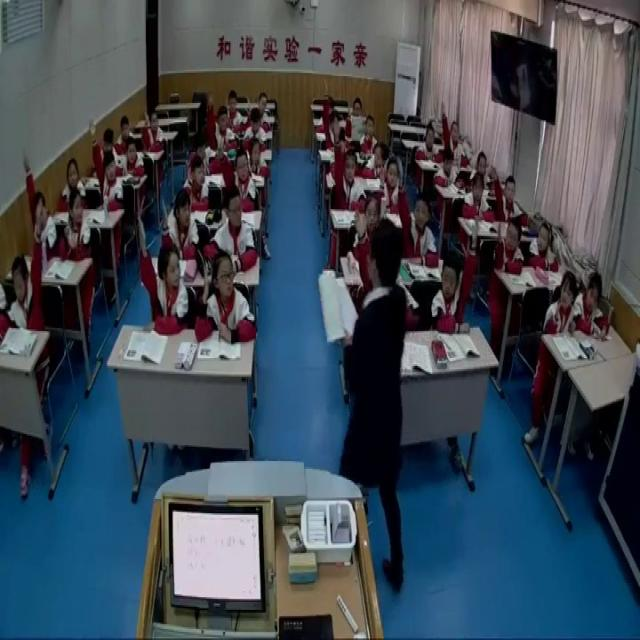focused: (202, 182, 259, 276), (349, 187, 385, 260), (575, 274, 611, 346), (62, 184, 92, 262), (528, 217, 560, 272), (461, 168, 493, 222), (60, 157, 86, 215), (185, 157, 213, 210), (242, 107, 270, 155), (243, 134, 270, 182), (360, 139, 390, 181), (435, 145, 460, 191), (190, 135, 214, 182), (416, 123, 442, 162), (472, 153, 495, 196), (357, 114, 380, 156), (100, 122, 120, 170), (122, 138, 144, 181), (254, 90, 272, 134), (116, 115, 136, 148), (228, 88, 243, 128)
raising_hand: (137, 205, 190, 337), (197, 248, 260, 346), (428, 214, 481, 329), (3, 202, 46, 334), (397, 160, 438, 268), (328, 111, 366, 215), (22, 156, 59, 262), (88, 117, 125, 217), (216, 132, 260, 212), (160, 187, 198, 259), (545, 266, 579, 341), (494, 209, 527, 276), (205, 92, 238, 158), (492, 166, 526, 225), (442, 100, 468, 168), (321, 75, 345, 148), (376, 158, 404, 212), (343, 94, 367, 146), (144, 111, 169, 156)
